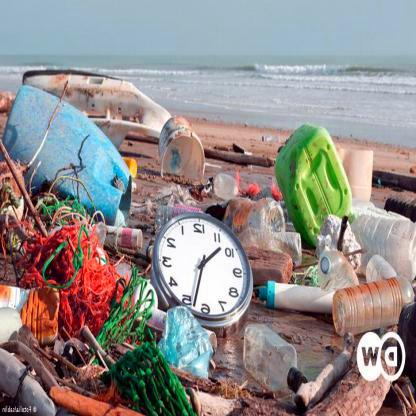Plastic: (240, 320, 309, 394), (331, 279, 416, 335), (155, 113, 207, 185), (220, 195, 288, 250), (257, 274, 335, 312)
